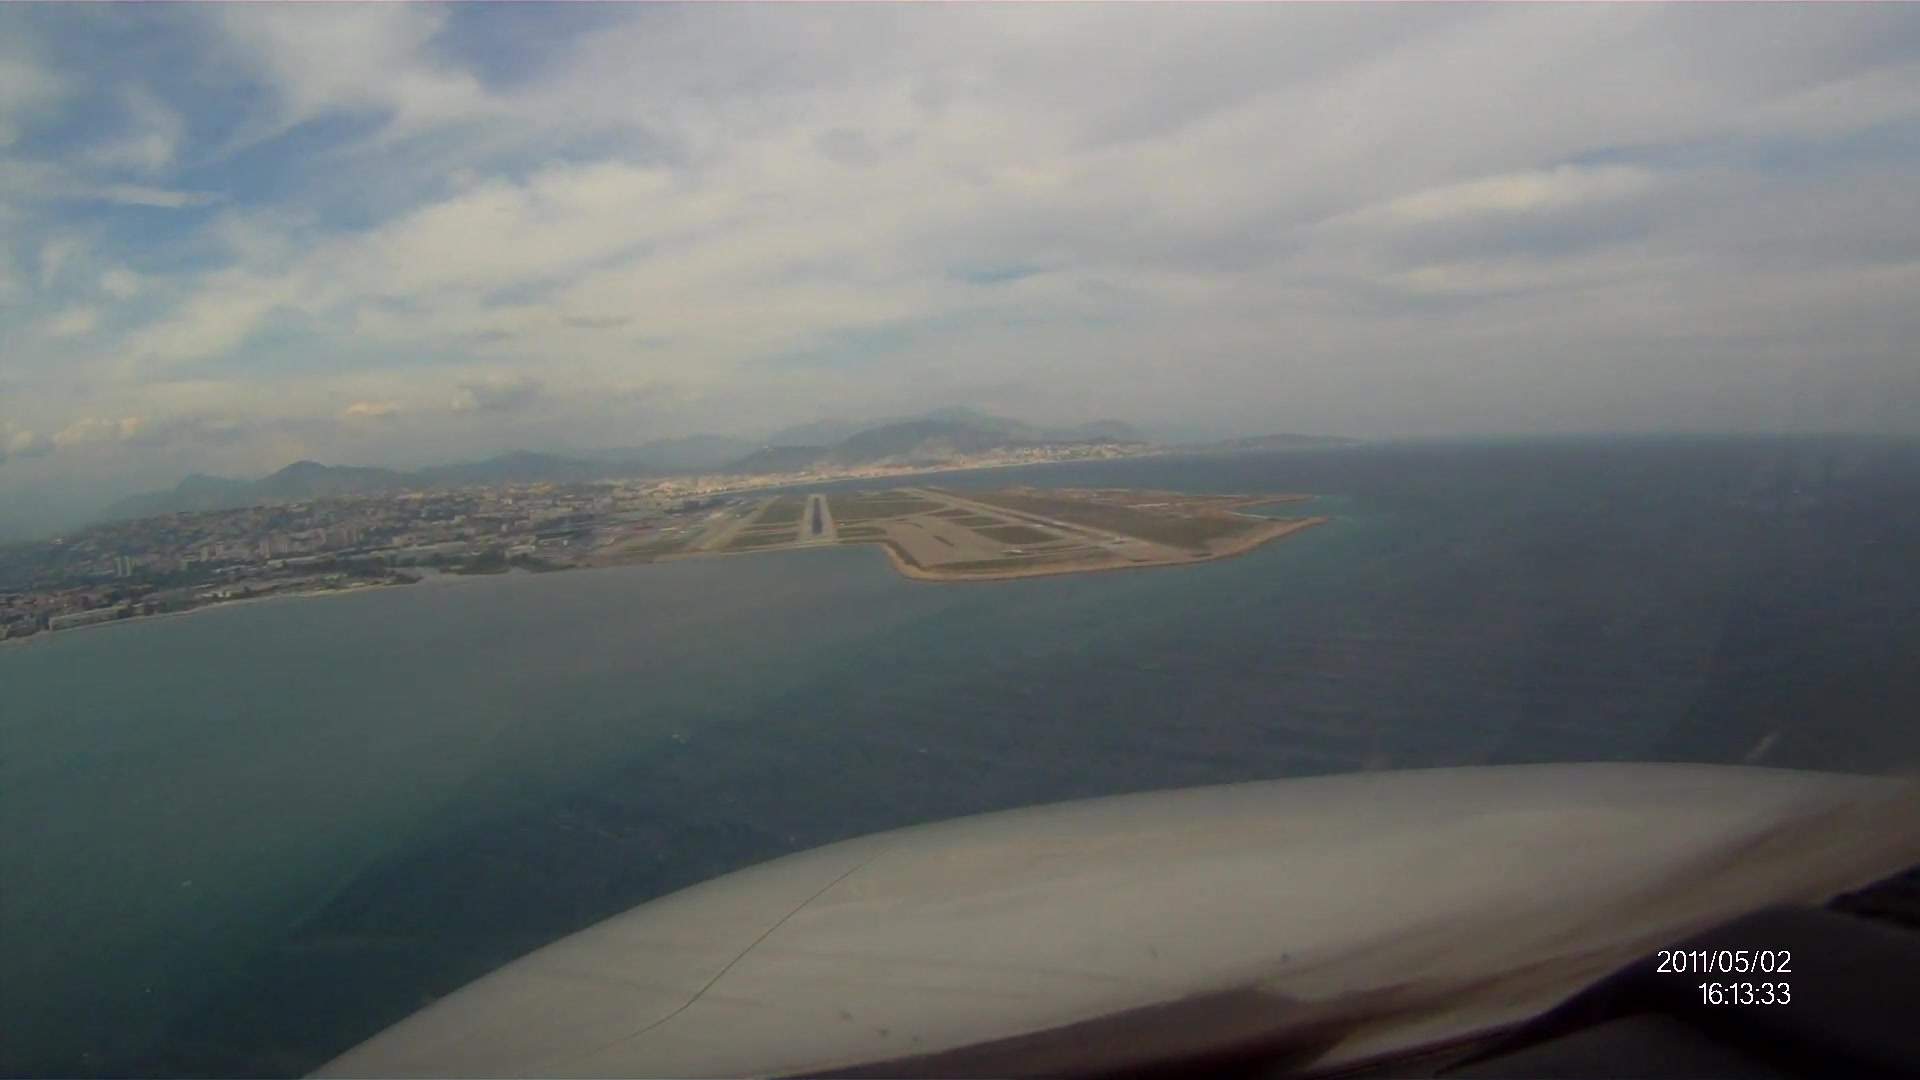runway: (794, 493, 839, 547)
